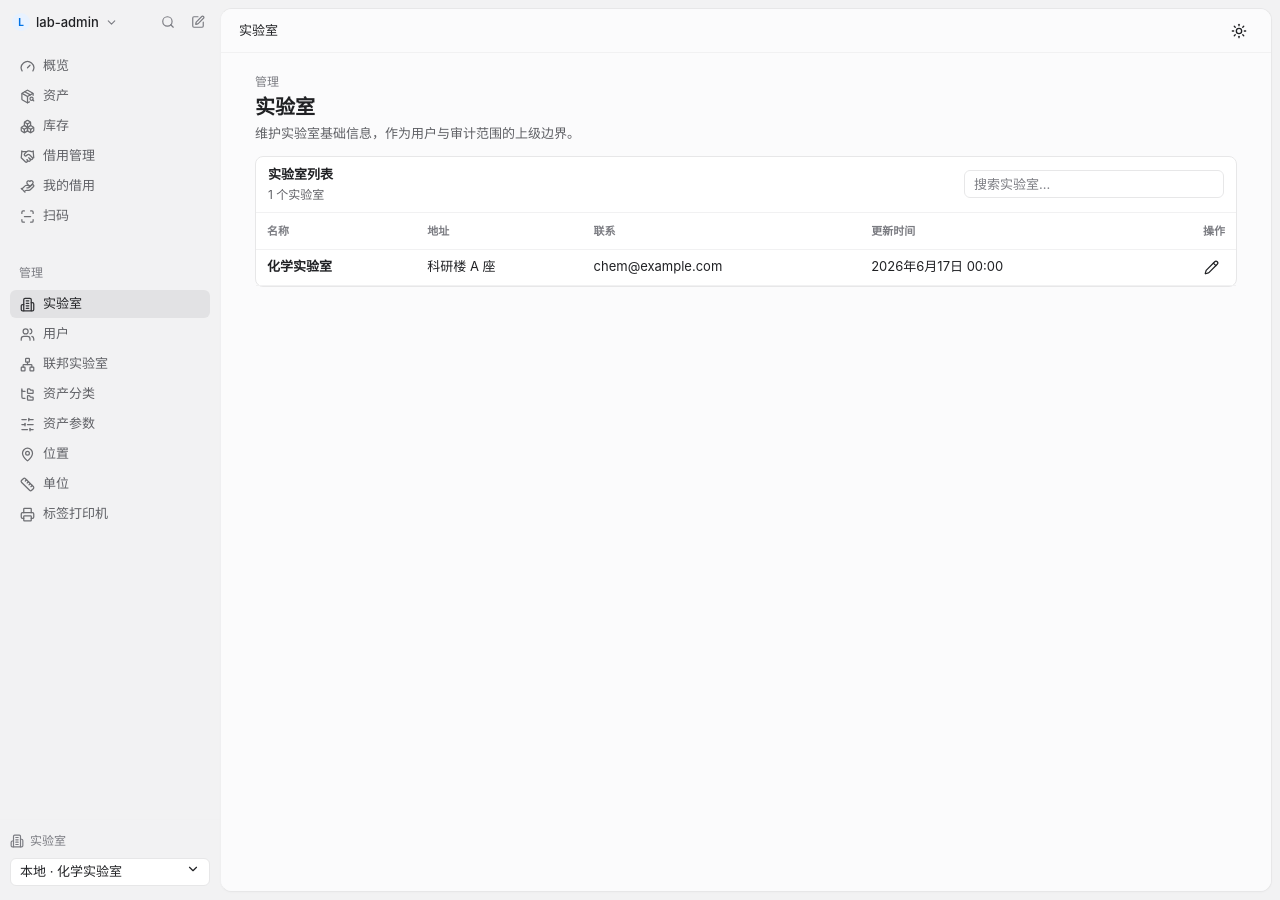
LaboratoriesPage for a laboratory admin › saves the edit through the laboratory-scoped route
The image size is (1280, 900).
Click the button named "编辑".
click(1211, 267)  # box 1197,253 -> 1225,281
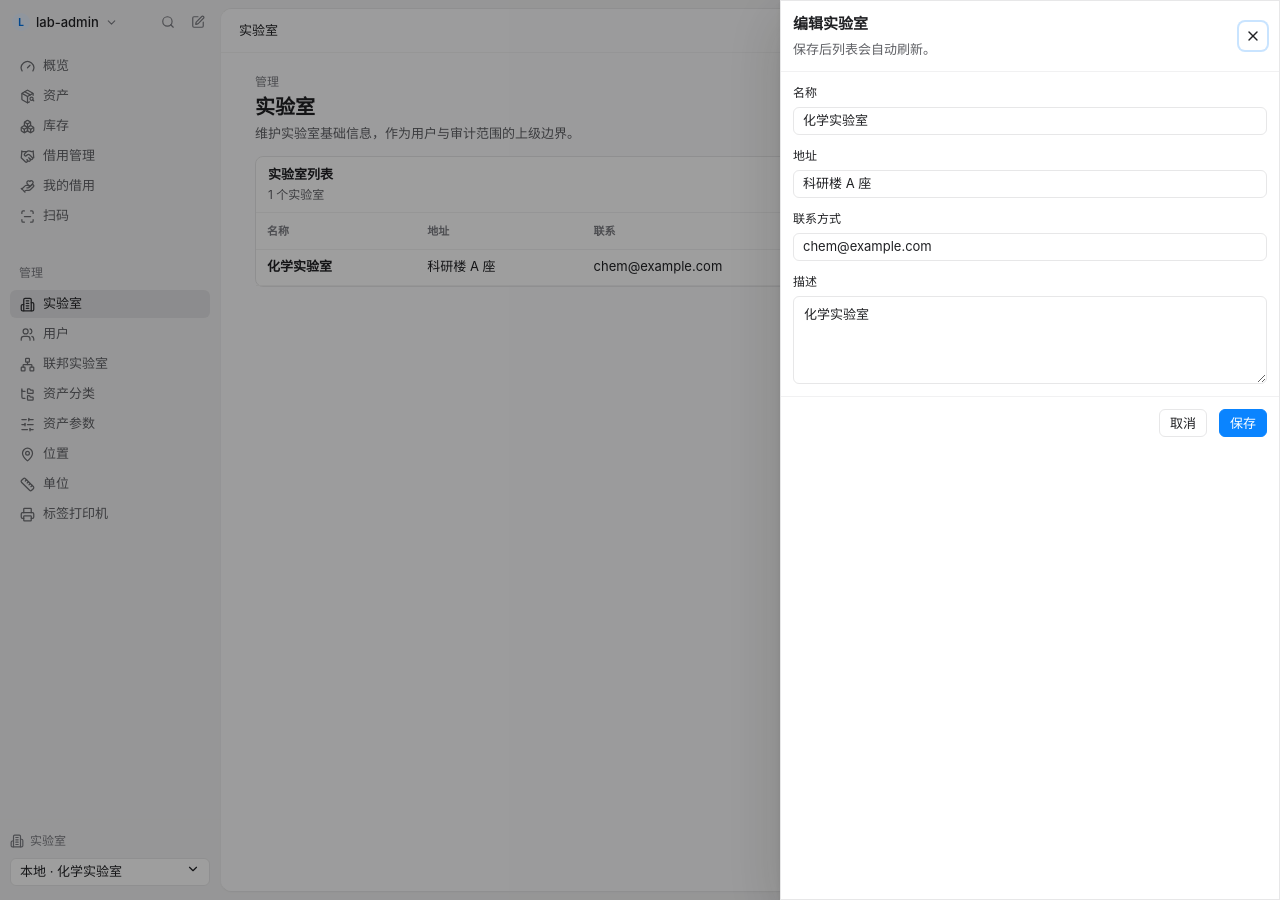
Replace the text in the field labelled "名称" with "化学实验室 II" at (1030, 121), box 793,107 -> 1267,135
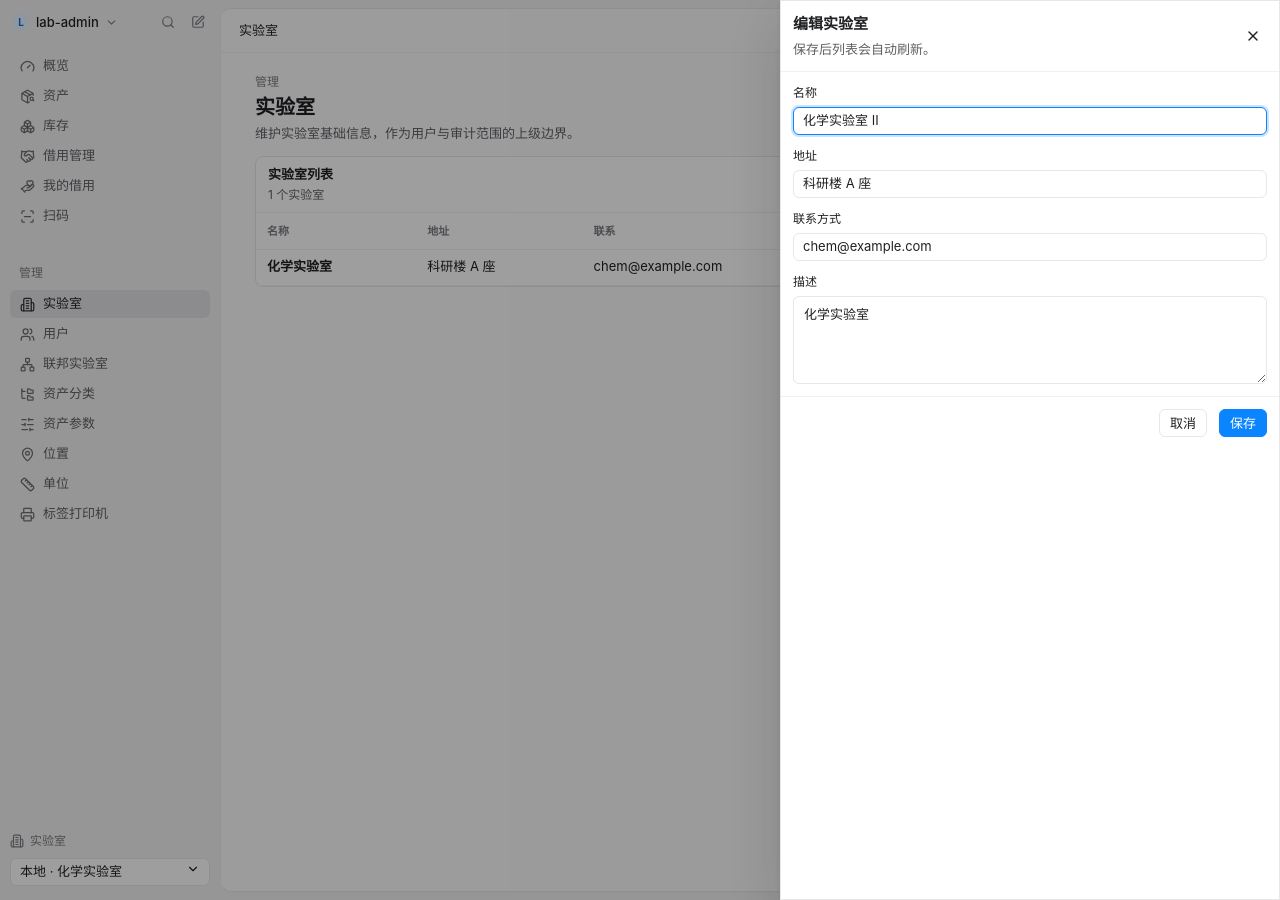
Click the button "保存".
click(1243, 423)  # box 1219,409 -> 1267,437
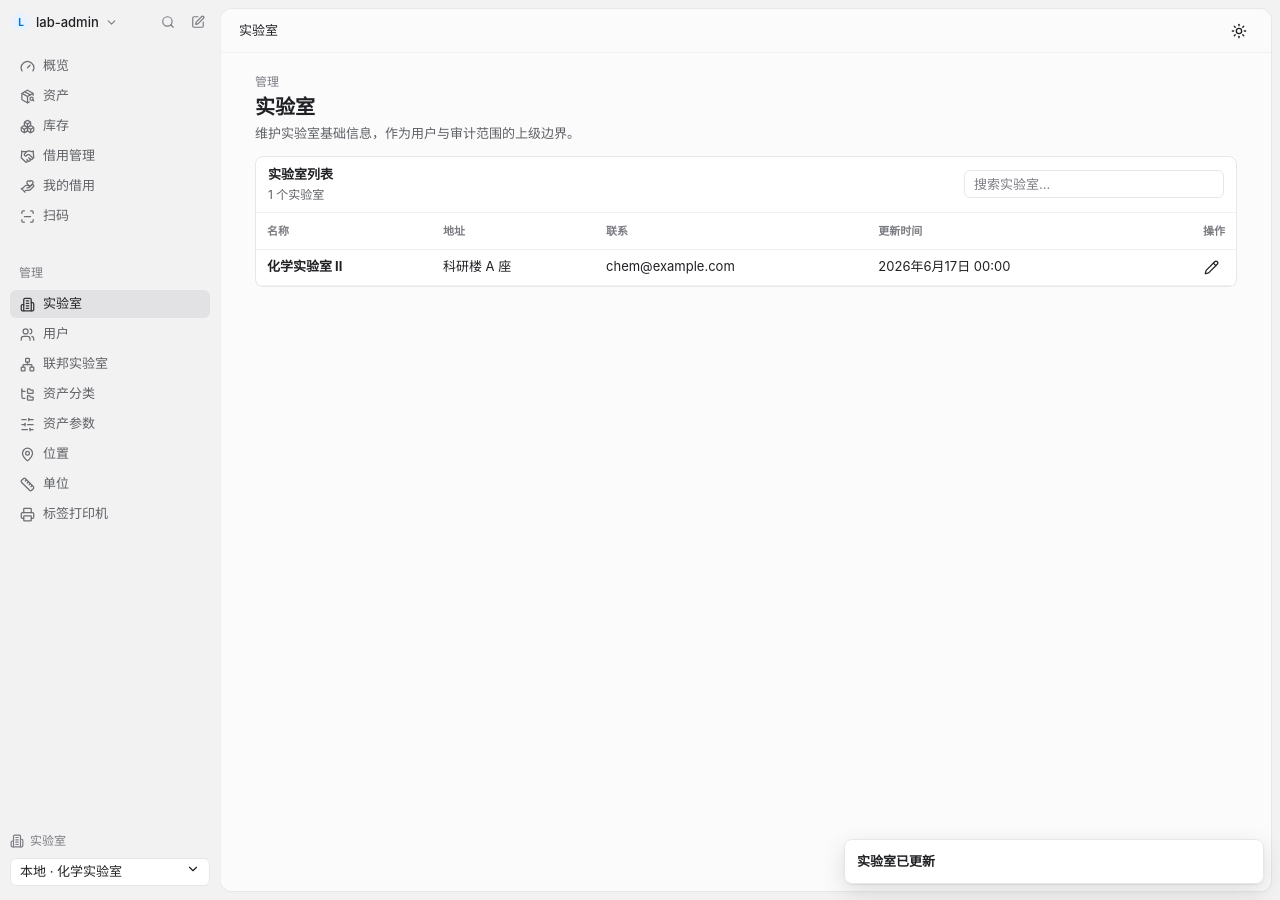
Expected: the text "化学实验室 II" is shown, 267,258 -> 342,274
